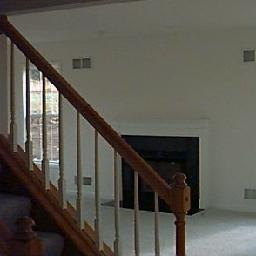Escaleras: (4, 32, 187, 252)
